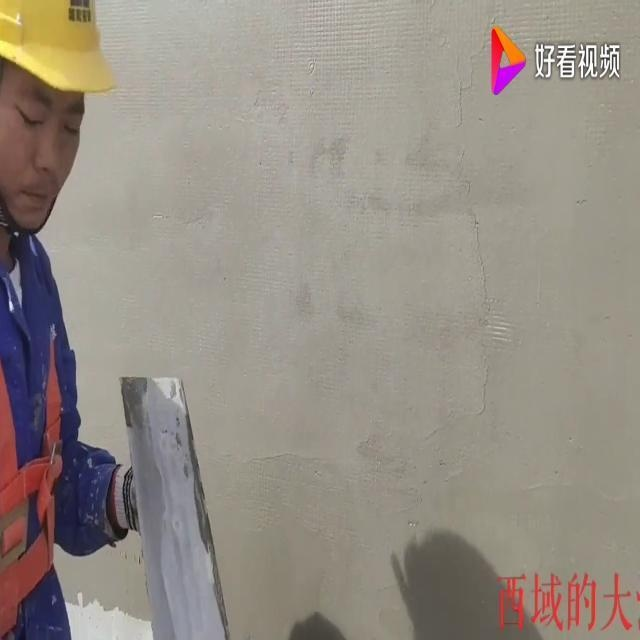Arnes_seguridad: (0, 284, 82, 639)
